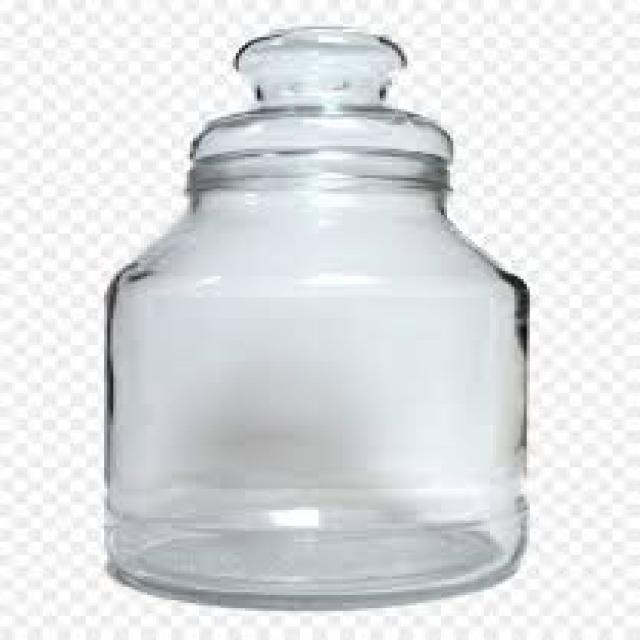Glass: (107, 21, 532, 606)
